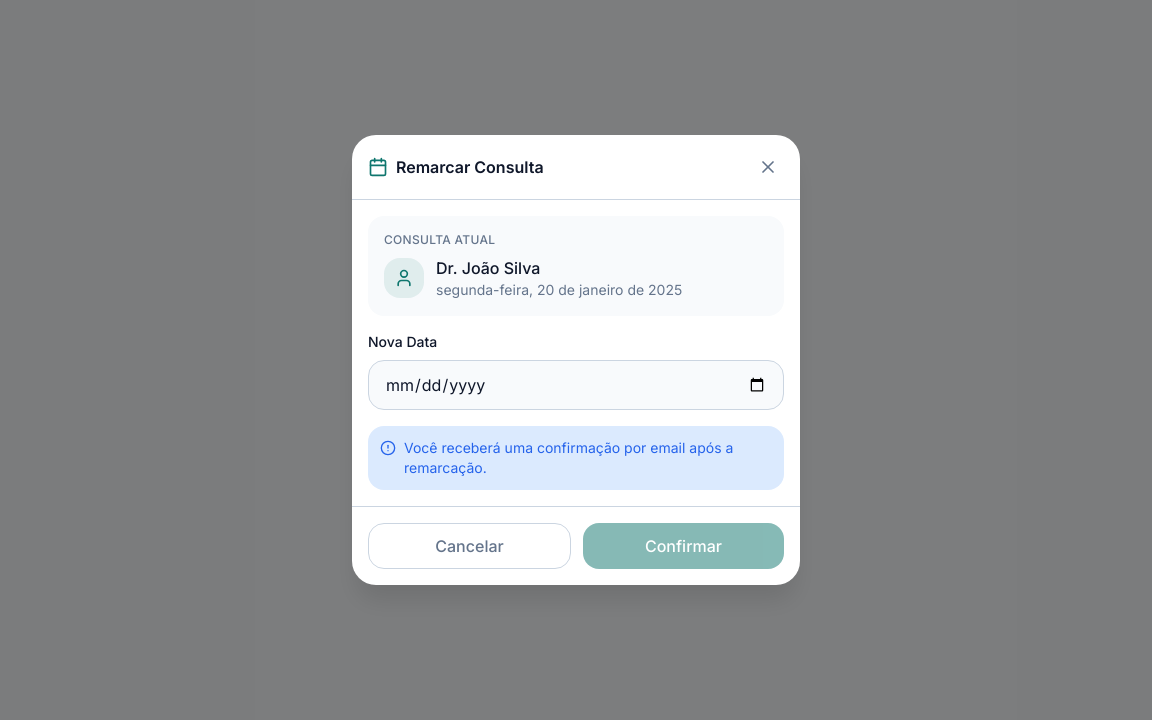
Scenario: RescheduleModal › time slot selection › should show summary when date and time are selected
The width and height of the screenshot is (1152, 720).
Type "2025-02-20" into the date field at (576, 385), box [368,360,784,410]
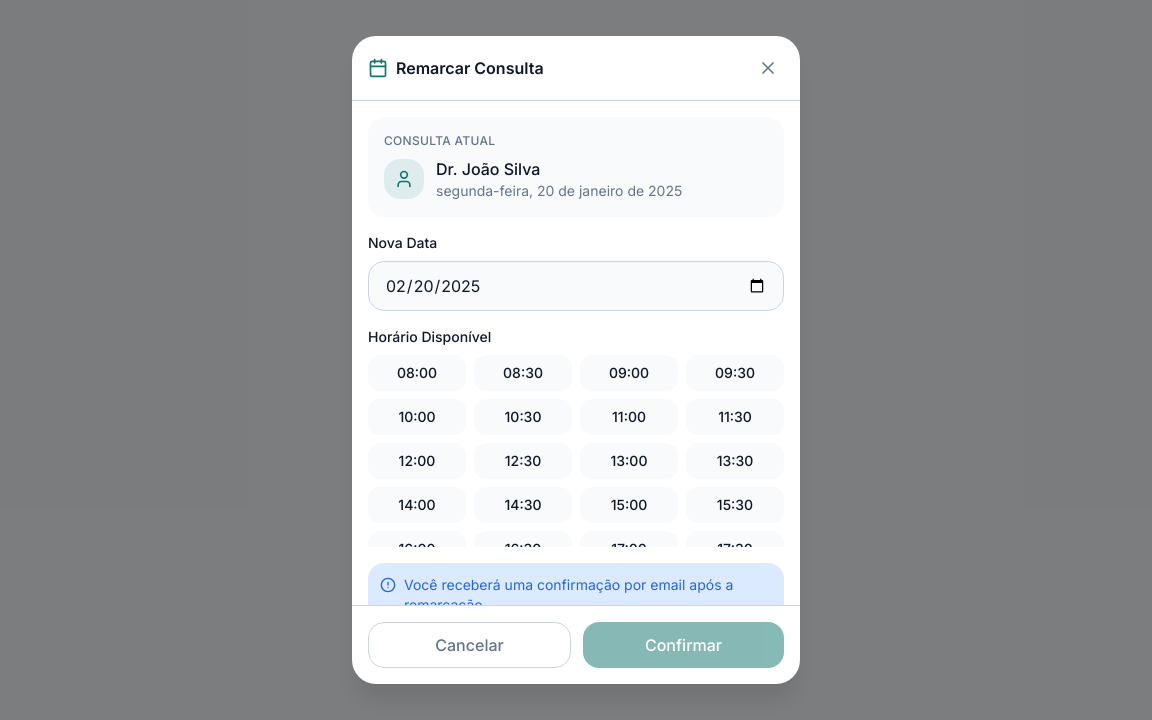
Click the button "10:00" at (417, 417), box [368,399,466,435]
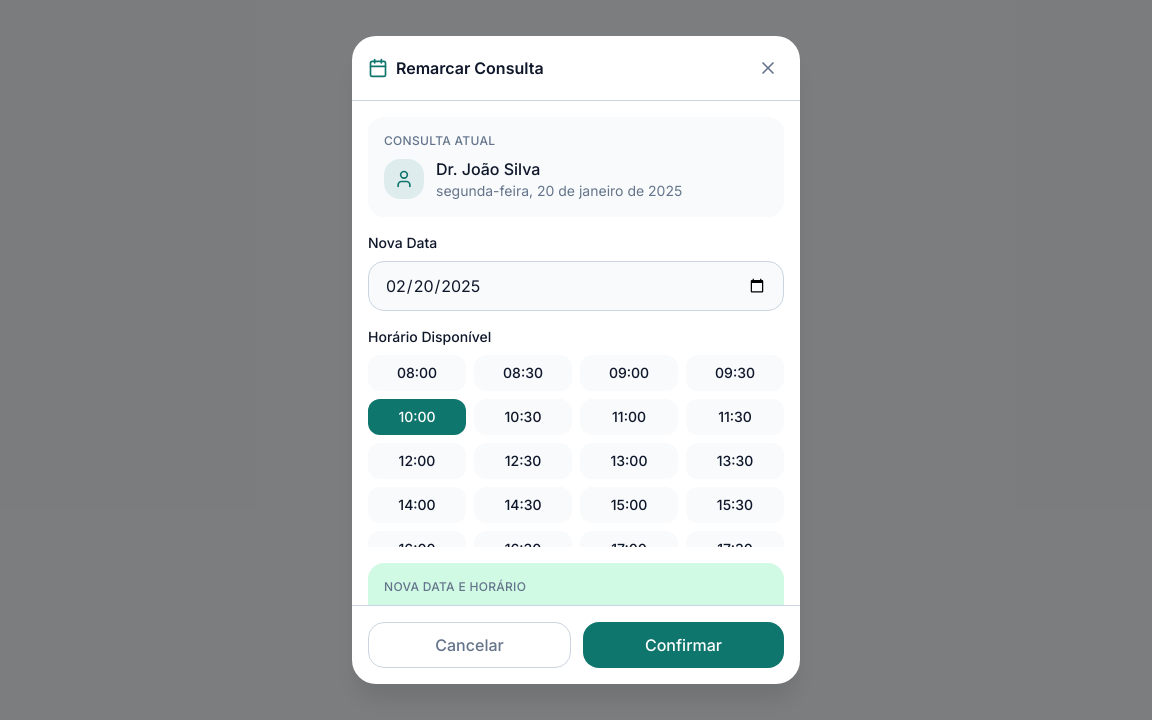
Expected: the text "Nova Data e Horário" is shown, [384,579,526,594]
